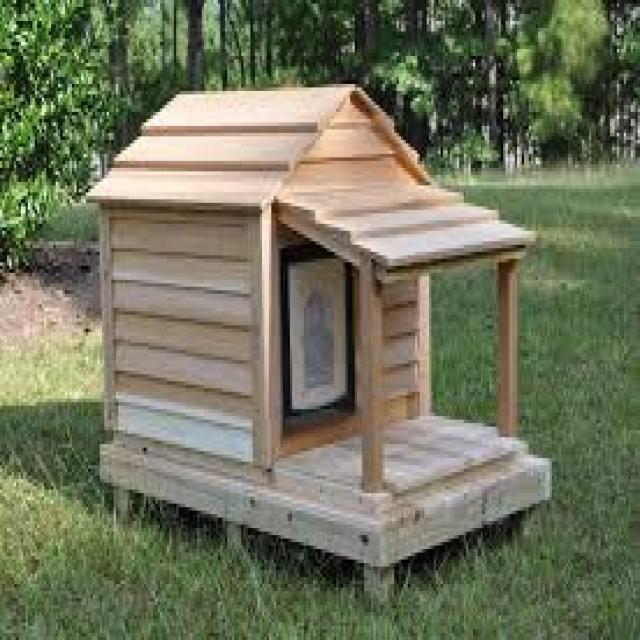Woods: (81, 84, 554, 581)
